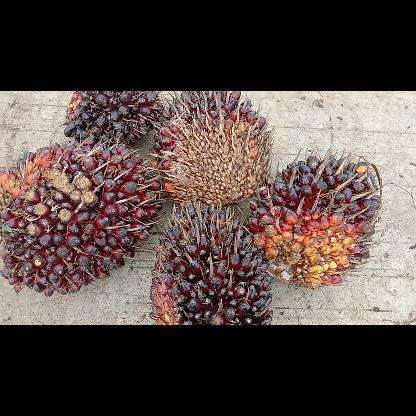TBS mentah: (0, 138, 166, 296), (245, 148, 385, 286), (149, 200, 271, 324), (150, 90, 274, 208), (63, 90, 163, 144)
